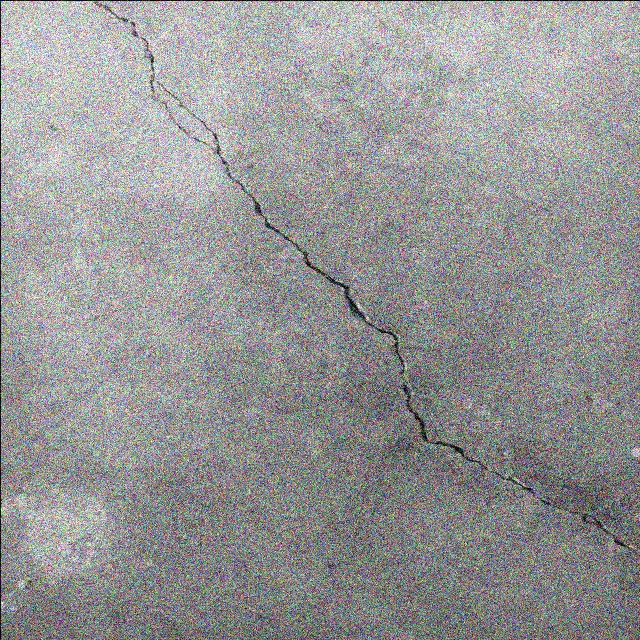SurfaceCrack: (6, 0, 639, 633)
